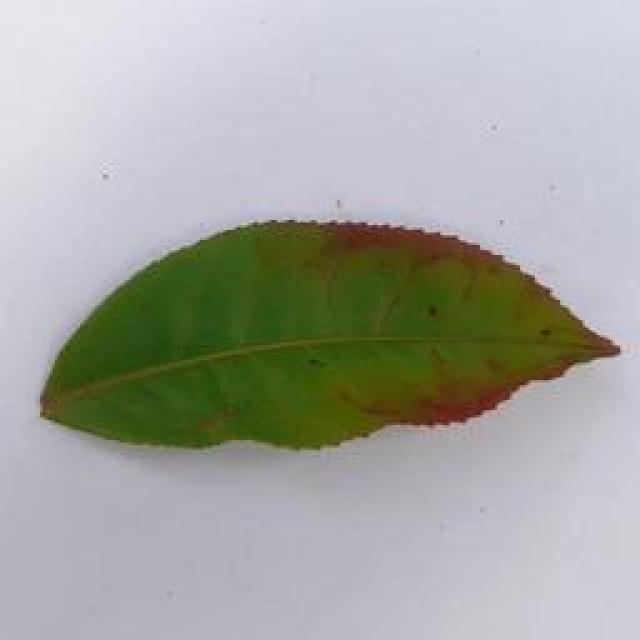Red Leaf Spot: (15, 195, 640, 475)
